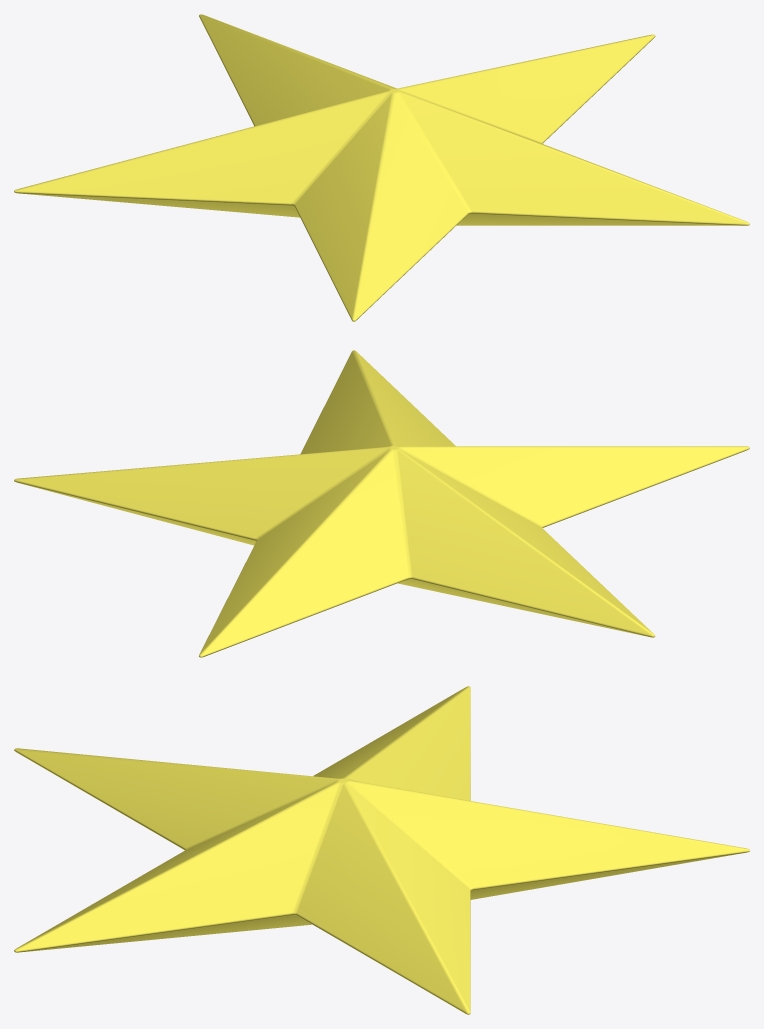
Rendered from star.glb.
The picture shows the model from 3 angles, top to bottom: view 1: azimuth 30°, elevation 25°; view 2: azimuth 150°, elevation 25°; view 3: azimuth 270°, elevation 25°; orthographic projection. The views are drawn at different scales.
Visible parts, largest first — view 1: Cube; view 2: Cube; view 3: Cube.
Part boxes in pixels (x1,y1,x2,y2): Cube: (14,14,749,321); Cube: (14,350,749,657); Cube: (14,686,749,1014).
Bounding box in the file's own units: 3.12 × 0.6219 × 2.97.
